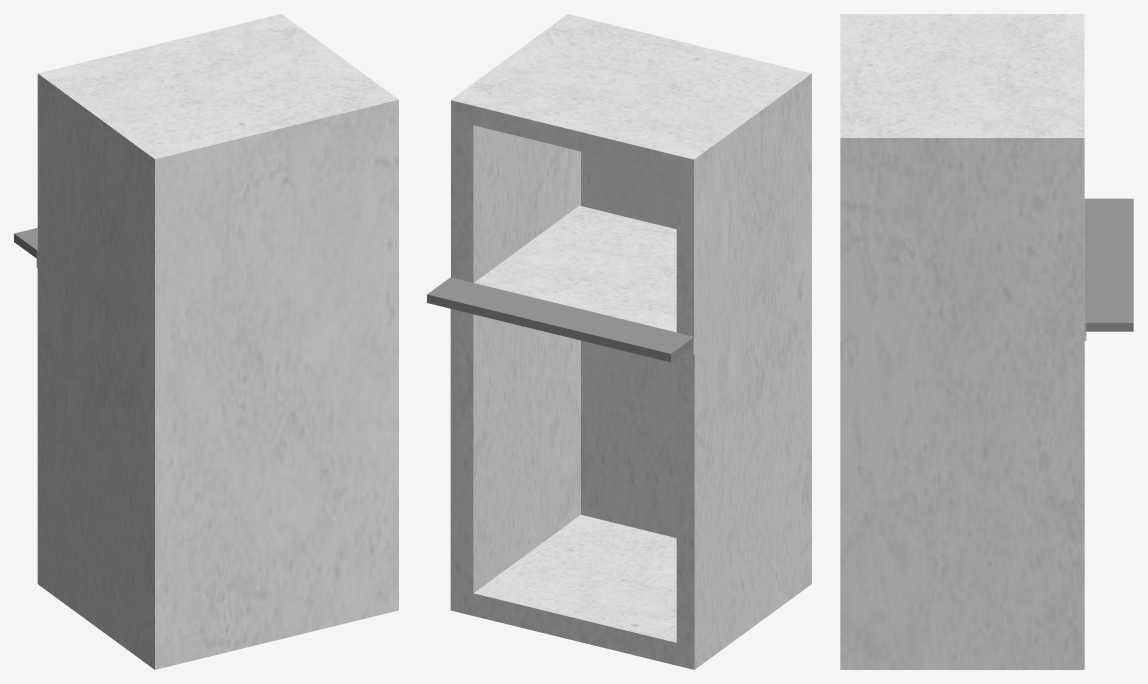
The model's file is refri.obj.
3 views of the same model, side by side, from view 1: azimuth 30°, elevation 25°; view 2: azimuth 150°, elevation 25°; view 3: azimuth 270°, elevation 25° (orthographic). The views are drawn at different scales.
Visible parts, largest first — view 1: pCube11; view 2: pCube11; view 3: pCube11.
Boxes of the visible parts, left/top/right/bottom form: pCube11: left=14, top=14, right=398, bottom=669; pCube11: left=427, top=14, right=811, bottom=669; pCube11: left=840, top=14, right=1133, bottom=669.
Size of the model in its own units: 3 by 6 by 3.
